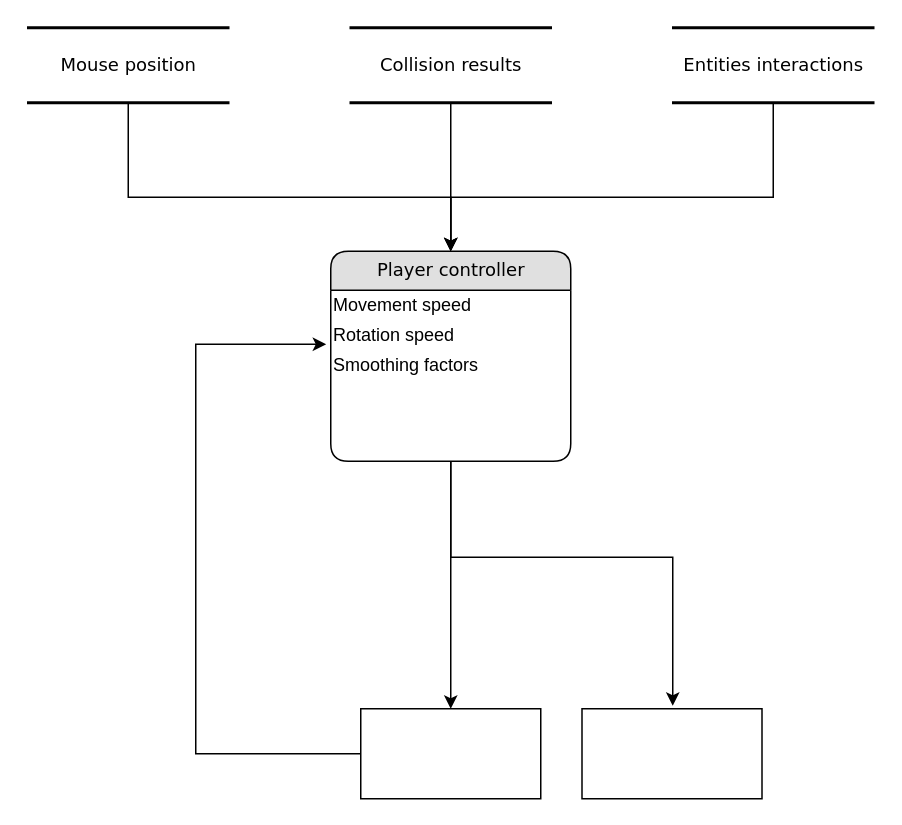
This 902x825 diagram has some shape labels left out. Each missing label, with the centre of its shape:
Player object: the point at 450,753
UI: the point at 671,753
